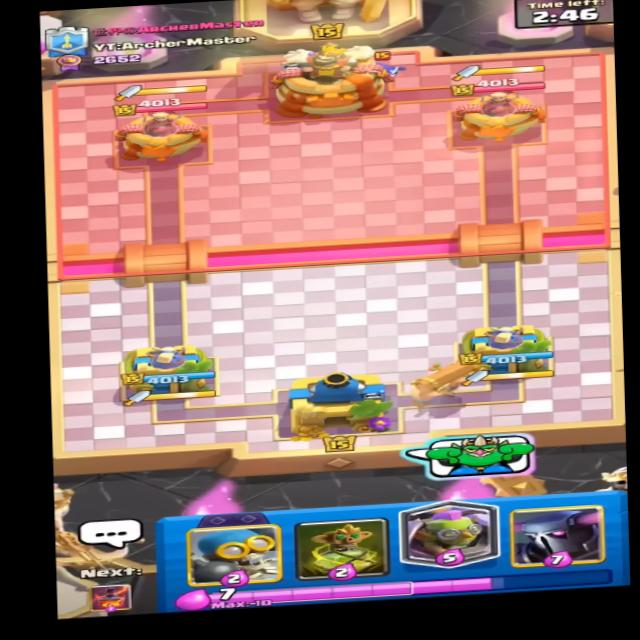electro-spirit: (369, 57, 412, 81)
